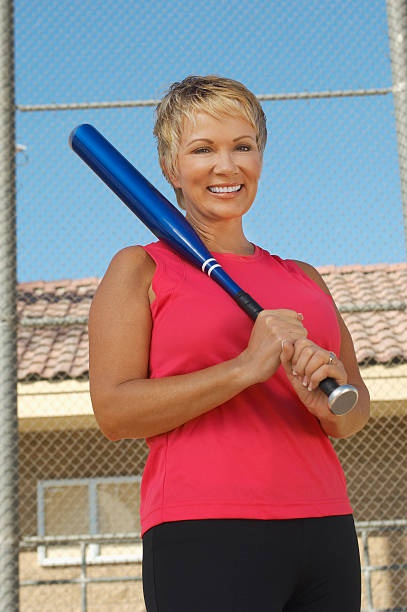bita: (71, 120, 358, 405)
